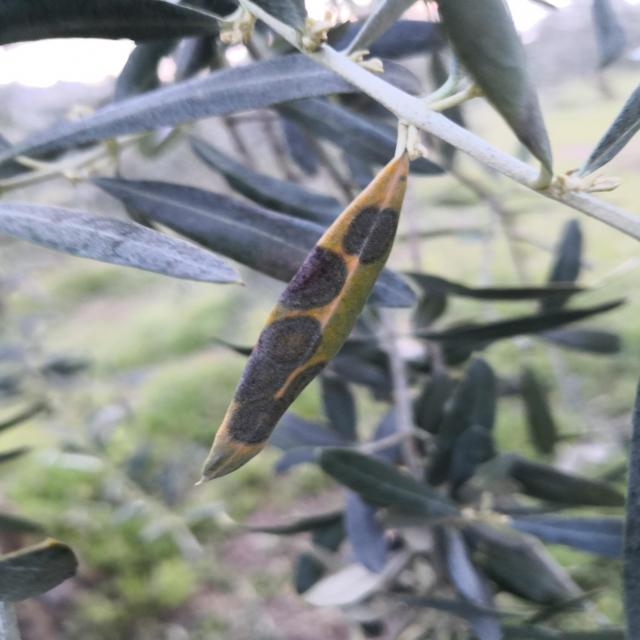Peacock Eye: (202, 149, 409, 481)
